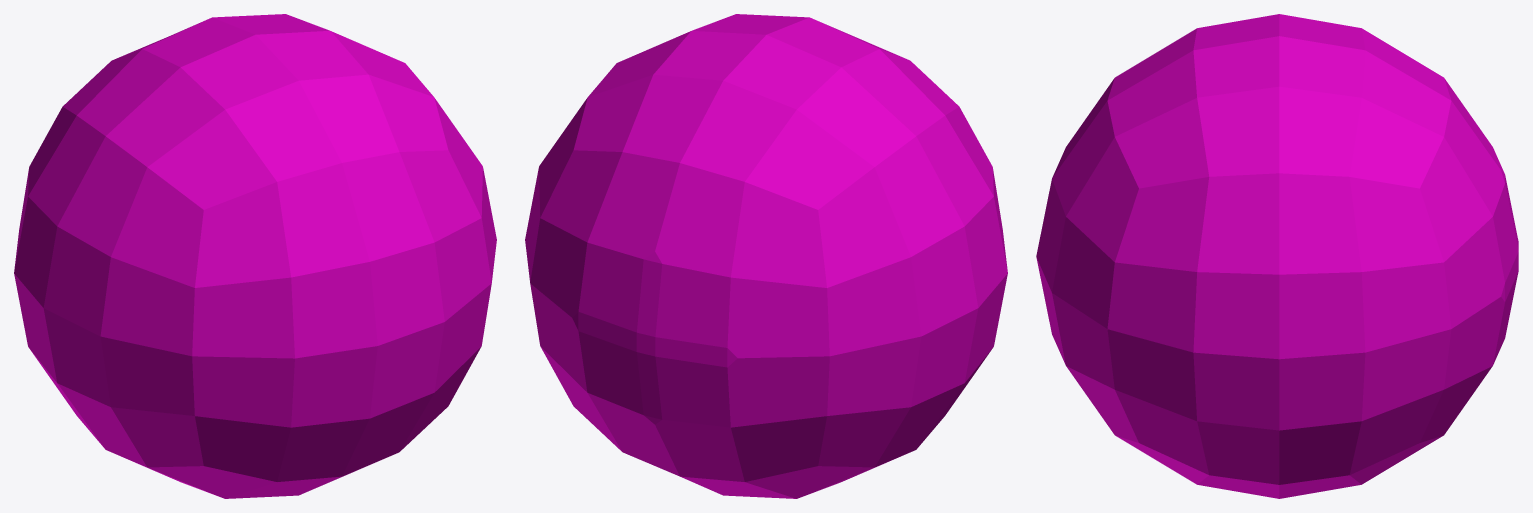
File: PingPongBall_01.fbx
3 renders of one model, left to right at view 1: azimuth 30°, elevation 25°; view 2: azimuth 150°, elevation 25°; view 3: azimuth 270°, elevation 25°, orthographic.
Parts seen in each view (by area): view 1: PingPongBall_01; view 2: PingPongBall_01; view 3: PingPongBall_01.
Part boxes in pixels (x1=…): PingPongBall_01: x1=14, y1=14, x2=496, y2=498; PingPongBall_01: x1=525, y1=14, x2=1007, y2=498; PingPongBall_01: x1=1036, y1=14, x2=1518, y2=498.
Bounding box in the file's own units: 4.37 × 4.37 × 4.33.
